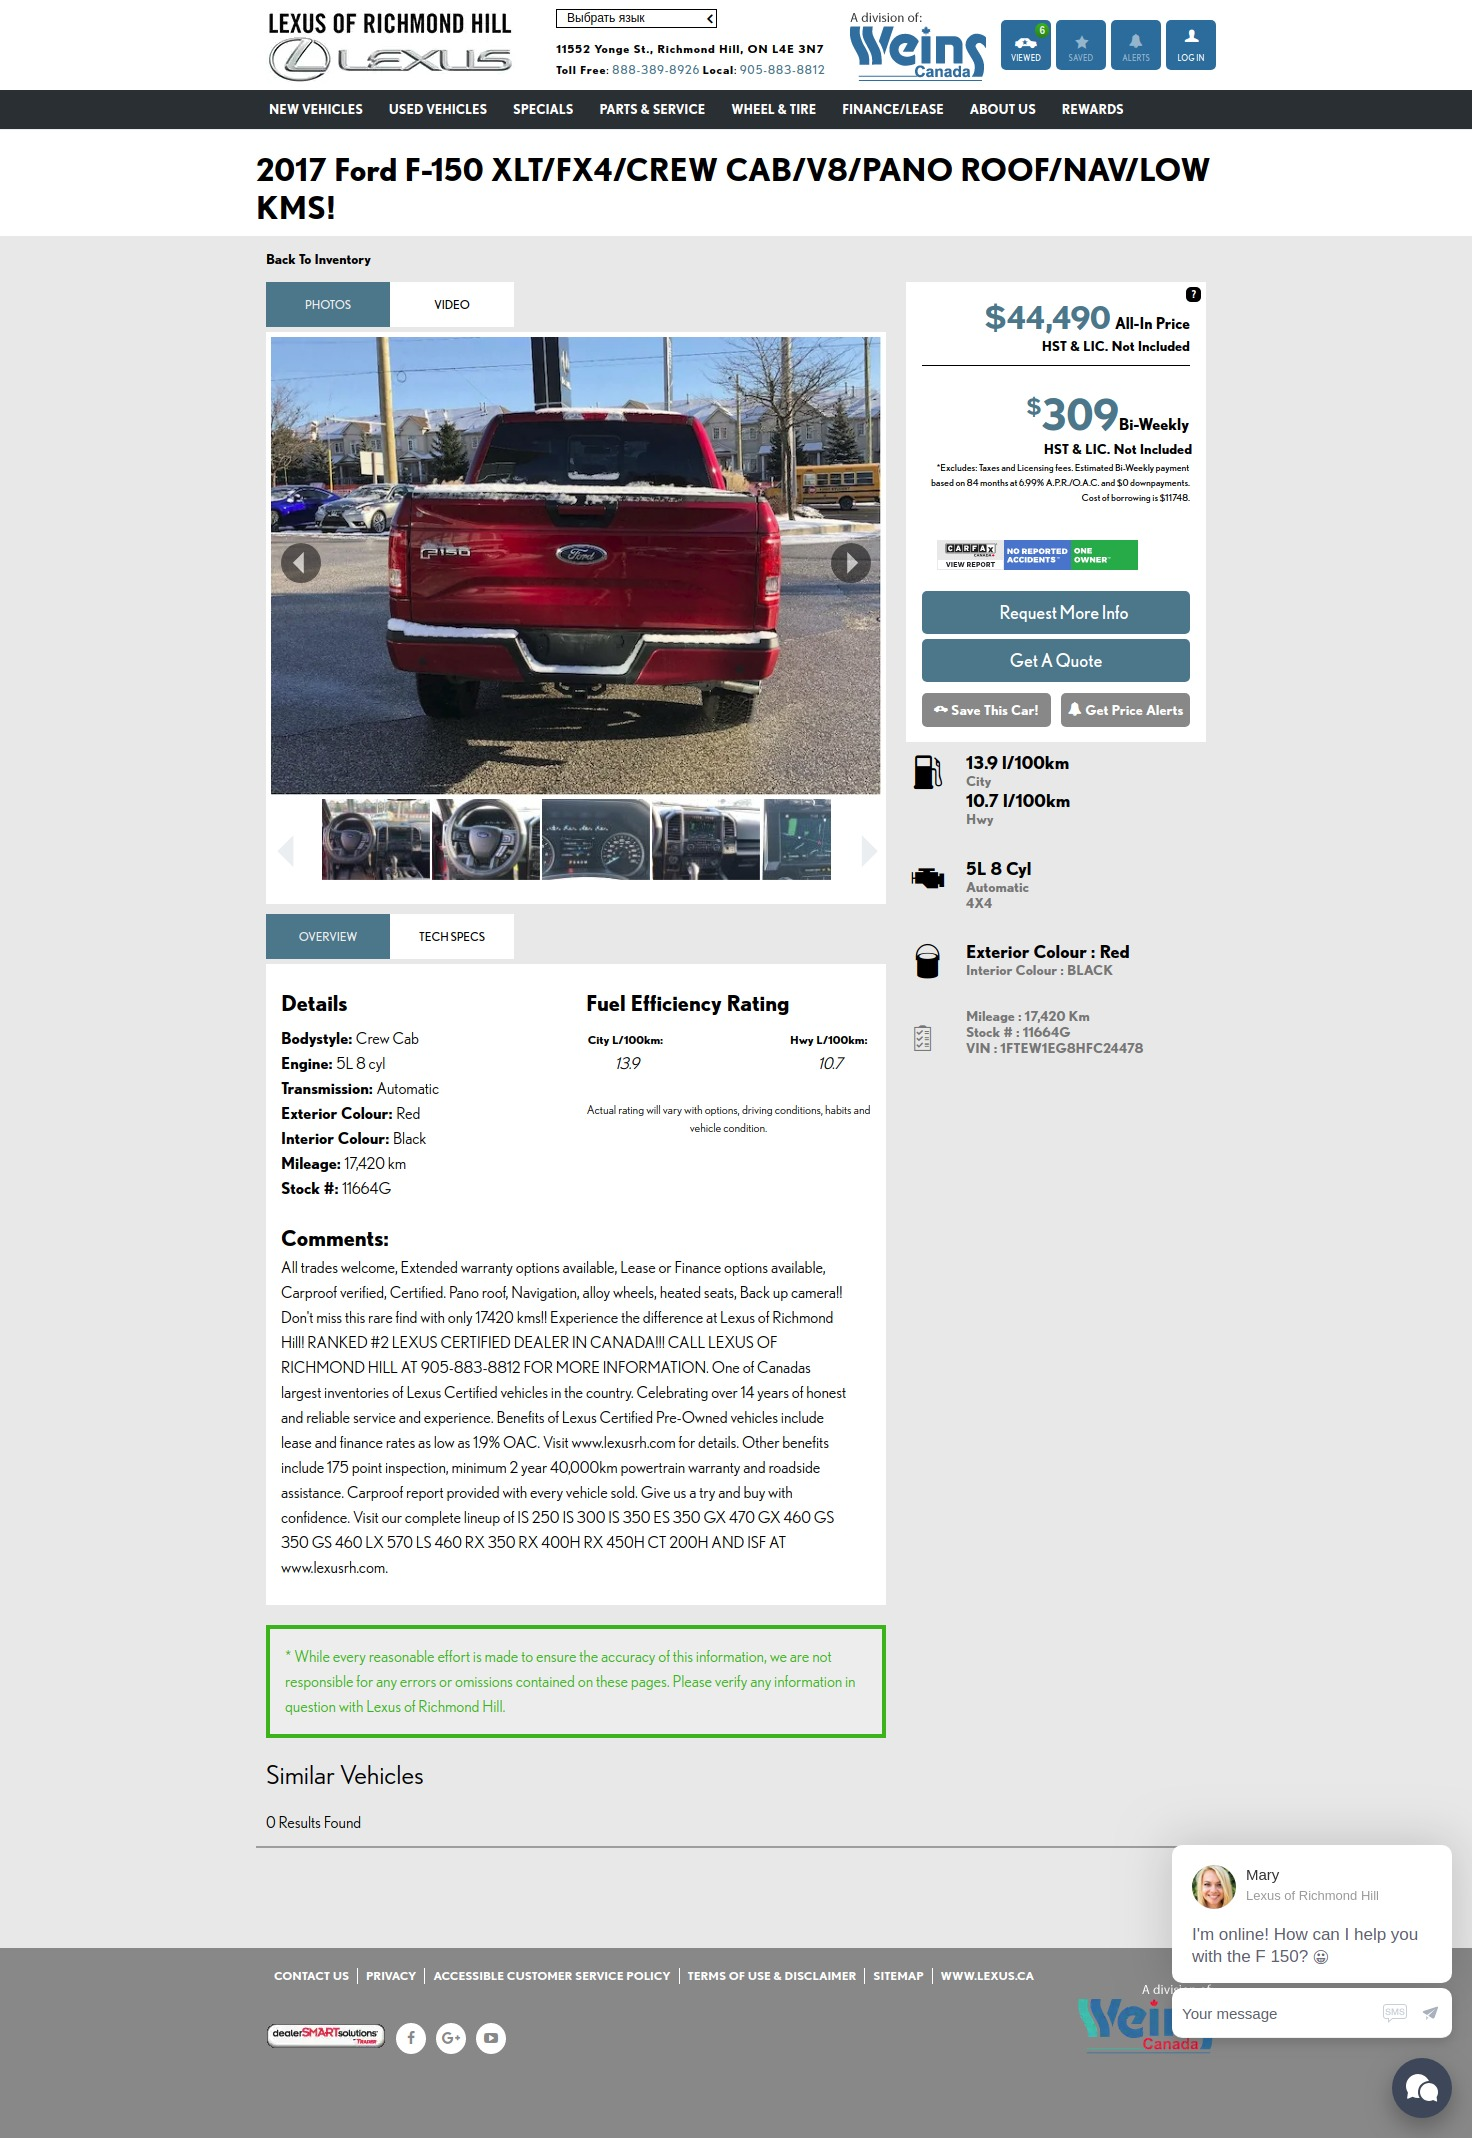car: (861, 835, 879, 869)
